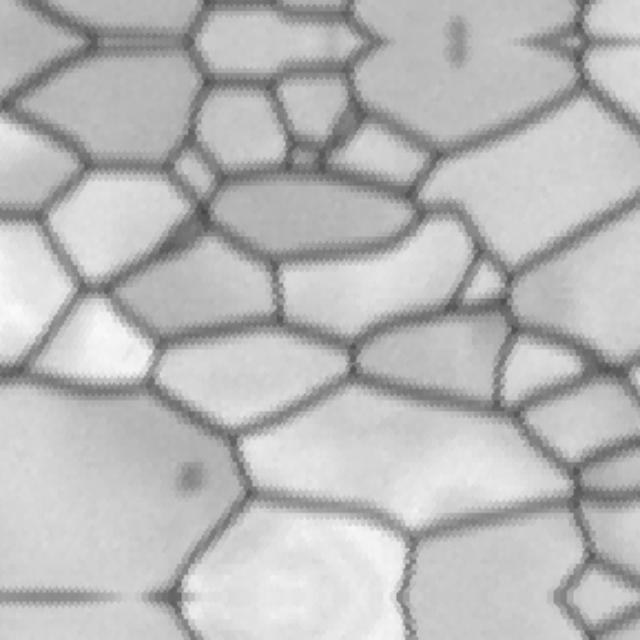good_void: (165, 448, 211, 508), (440, 42, 481, 78), (440, 6, 481, 42)
